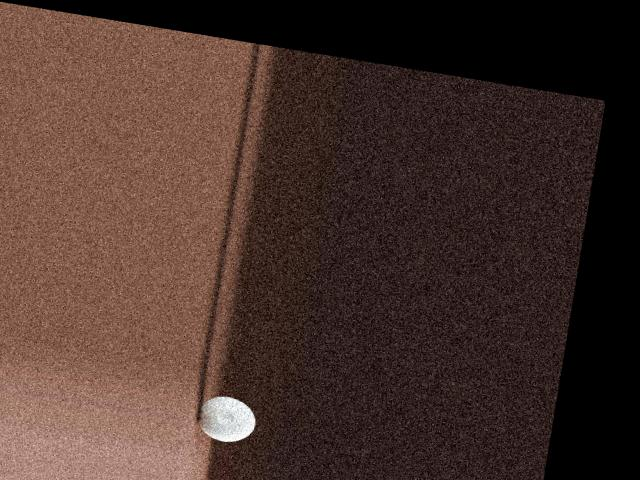egg: (195, 393, 259, 445)
